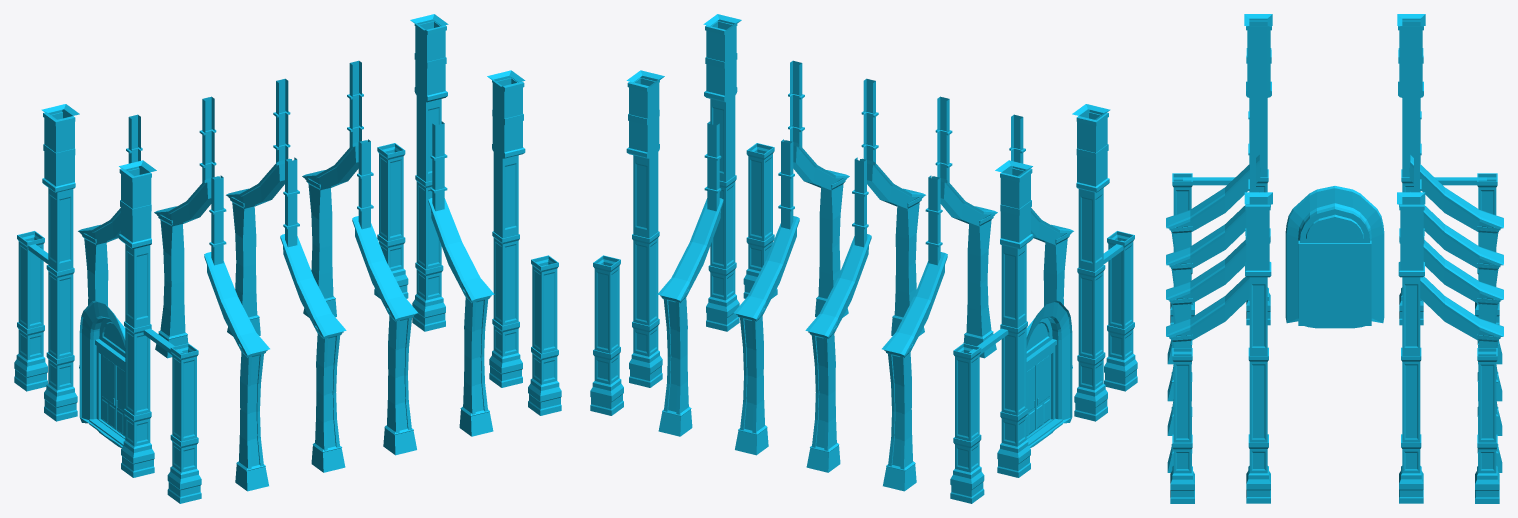
The model's file is PillarChurch.fbx.
3 renders of one model, left to right at view 1: azimuth 30°, elevation 25°; view 2: azimuth 150°, elevation 25°; view 3: azimuth 270°, elevation 25°, orthographic.
Parts seen in each view (by area): view 1: PillarChurch; view 2: PillarChurch; view 3: PillarChurch.
Boxes of the visible parts, x1,y1,x2,y2 form: PillarChurch: (14,14,561,503); PillarChurch: (590,14,1137,503); PillarChurch: (1166,14,1503,503).
Bounding box in the file's own units: 20.8 × 15.43 × 15.6.
